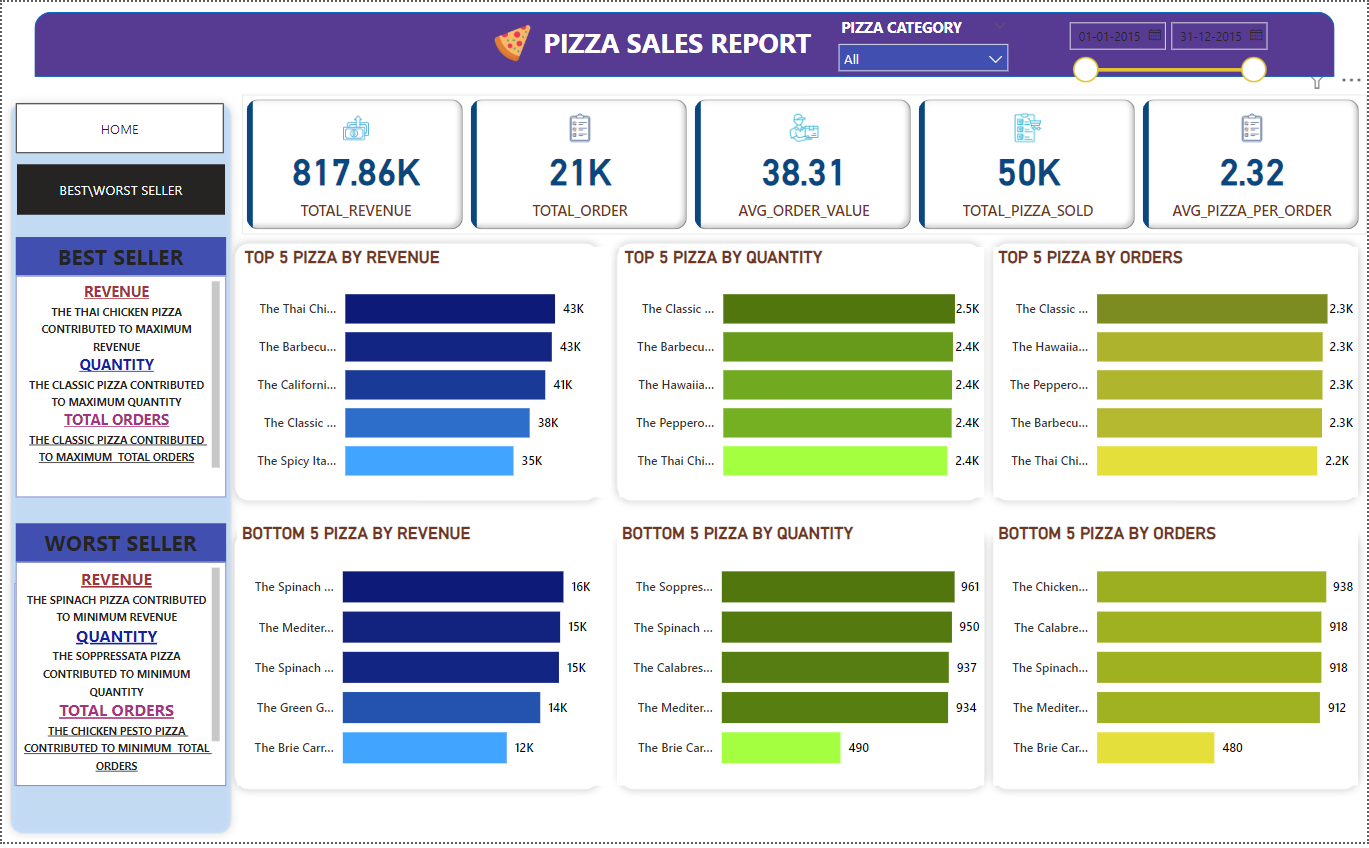

What the dashboard file says about the page in this screenshot:
{"tool":"powerbi","page":{"name":"BEST\\WORST SELLER","canvas":[1365,840],"ordinal":1},"visuals":[{"type":"cardVisual","fields":{"Data":["public pizza_sales.Total_Revenue","public pizza_sales.TOTAL_ORDER","public pizza_sales.AVG_ORDER_VALUE","public pizza_sales.TOTAL_PIZZA_SOLD","public pizza_sales.AVG_PIZZA_PER_ORDER"]},"box":[240,92.5,1125,140],"z":0},{"type":"shape","box":[32.5,10,1300,65],"z":1000},{"type":"textbox","box":[536.2,17.5,292.5,50],"z":2000},{"type":"image","box":[472.5,17.5,76.2,47.5],"z":3000},{"type":"shape","box":[223.8,232.5,382.5,275],"z":4000},{"type":"shape","box":[0,92.5,237.5,747.5],"z":12000},{"type":"textbox","box":[13.8,235,210,38.8],"z":15000},{"type":"textbox","box":[13.8,273.8,210,221.2],"z":16000},{"type":"textbox","box":[13.8,521.2,210,38.8],"z":17000},{"type":"textbox","box":[12.5,581.2,210,202.5],"z":18000},{"type":"slicer","fields":{"Values":["public pizza_sales.pizza_category"]},"box":[826.2,10,190,65],"z":19000},{"type":"slicer","fields":{"Values":["public pizza_sales.order_date"]},"box":[1055,10,217.5,82.5],"z":20000},{"type":"shape","box":[606.2,232.5,382.5,275],"z":20001},{"type":"shape","box":[982.5,232.5,382.5,275],"z":20002},{"type":"shape","box":[223.8,521.2,382.5,275],"z":20003},{"type":"shape","box":[608.8,521.2,382.5,275],"z":20004},{"type":"shape","box":[982.5,521.2,382.5,275],"z":20005},{"type":"barChart","title":"TOP 5 PIZZA BY REVENUE","fields":{"Category":["public pizza_sales.pizza_name"],"Y":["public pizza_sales.TOTAL_REVENUE"]},"box":[237.5,245,371.2,250],"z":20006},{"type":"barChart","title":"TOP 5 PIZZA BY QUANTITY","fields":{"Category":["public pizza_sales.pizza_name"],"Y":["public pizza_sales.TOTAL_PIZZA_SOLD"]},"box":[617.5,245,365,250],"z":20007},{"type":"barChart","title":"BOTTOM 5 PIZZA BY REVENUE","fields":{"Category":["public pizza_sales.pizza_name"],"Y":["public pizza_sales.TOTAL_REVENUE"]},"box":[235,521.2,371.2,262.5],"z":20008},{"type":"barChart","title":"BOTTOM 5 PIZZA BY QUANTITY","fields":{"Category":["public pizza_sales.pizza_name"],"Y":["public pizza_sales.TOTAL_PIZZA_SOLD"]},"box":[615,521.2,367.5,262.5],"z":20009},{"type":"barChart","title":"TOP 5 PIZZA BY ORDERS","fields":{"Category":["public pizza_sales.pizza_name"],"Y":["public pizza_sales.TOTAL_ORDER"]},"box":[991.2,245,365,250],"z":20010},{"type":"barChart","title":"BOTTOM 5 PIZZA BY ORDERS","fields":{"Category":["public pizza_sales.pizza_name"],"Y":["public pizza_sales.TOTAL_ORDER"]},"box":[991.2,521.2,365,262.5],"z":20011},{"type":"textbox","box":[13.8,560,210,223.8],"z":20012},{"type":"pageNavigator","box":[13.8,101.2,208.8,50],"z":20013},{"type":"pageNavigator","box":[15,162.5,208.8,50],"z":20014}]}

Visuals, with their boxes in screenshot pixels (x1, y1, x2, y2), scaled from the page's 1365x840 canvas onto the 1369x848 screenshot:
cardVisual - public pizza_sales.Total_Revenue x public pizza_sales.TOTAL_ORDER: locate(241, 93, 1368, 235)
shape: locate(33, 10, 1336, 76)
textbox: locate(538, 18, 831, 68)
image: locate(474, 18, 550, 66)
shape: locate(224, 235, 608, 512)
shape: locate(0, 93, 238, 847)
textbox: locate(14, 237, 224, 276)
textbox: locate(14, 276, 224, 500)
textbox: locate(14, 526, 224, 565)
textbox: locate(13, 587, 223, 791)
slicer - public pizza_sales.pizza_category: locate(829, 10, 1019, 76)
slicer - public pizza_sales.order_date: locate(1058, 10, 1276, 93)
shape: locate(608, 235, 992, 512)
shape: locate(985, 235, 1368, 512)
shape: locate(224, 526, 608, 804)
shape: locate(611, 526, 994, 804)
shape: locate(985, 526, 1368, 804)
"TOP 5 PIZZA BY REVENUE" barChart: locate(238, 247, 610, 500)
"TOP 5 PIZZA BY QUANTITY" barChart: locate(619, 247, 985, 500)
"BOTTOM 5 PIZZA BY REVENUE" barChart: locate(236, 526, 608, 791)
"BOTTOM 5 PIZZA BY QUANTITY" barChart: locate(617, 526, 985, 791)
"TOP 5 PIZZA BY ORDERS" barChart: locate(994, 247, 1360, 500)
"BOTTOM 5 PIZZA BY ORDERS" barChart: locate(994, 526, 1360, 791)
textbox: locate(14, 565, 224, 791)
pageNavigator: locate(14, 102, 223, 153)
pageNavigator: locate(15, 164, 224, 215)
